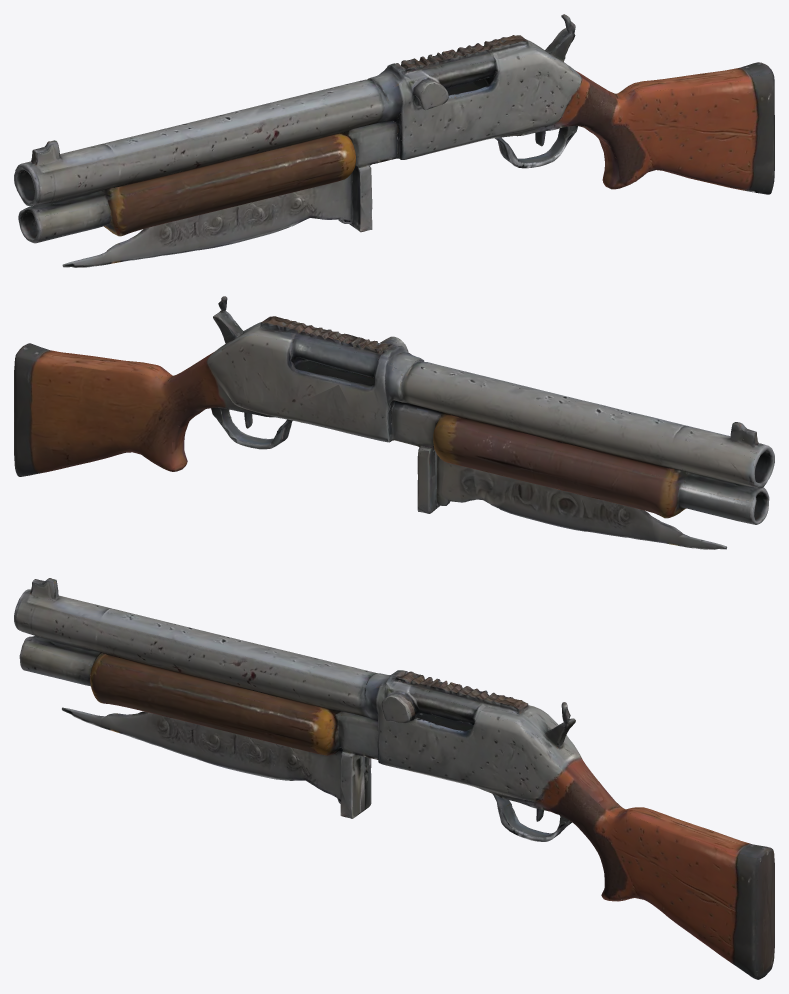
Rendered from shotgun.glb.
3 renders of one model, top to bottom at view 1: azimuth 30°, elevation 25°; view 2: azimuth 150°, elevation 25°; view 3: azimuth 330°, elevation 25°, orthographic.
Parts seen in each view (by area): view 1: Mesh_0.002; view 2: Mesh_0.002; view 3: Mesh_0.002.
Boxes of the visible parts, bbox=[...] form: Mesh_0.002: bbox=[14, 14, 774, 267]; Mesh_0.002: bbox=[14, 296, 774, 549]; Mesh_0.002: bbox=[14, 578, 774, 979].
Size of the model in its own units: 2 by 0.5834 by 0.1649.
Materials: 1 (1 with a texture image).
